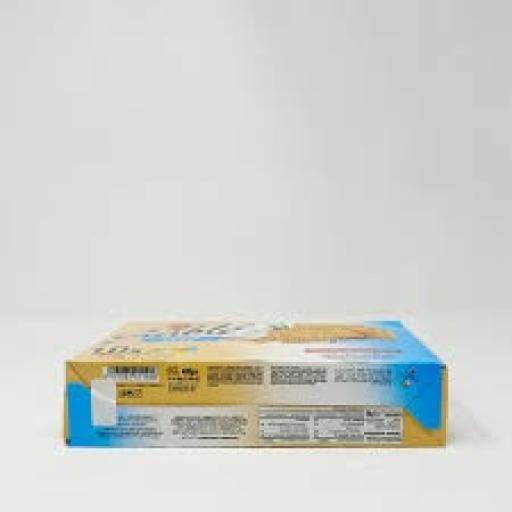sabl: (41, 271, 479, 512)
